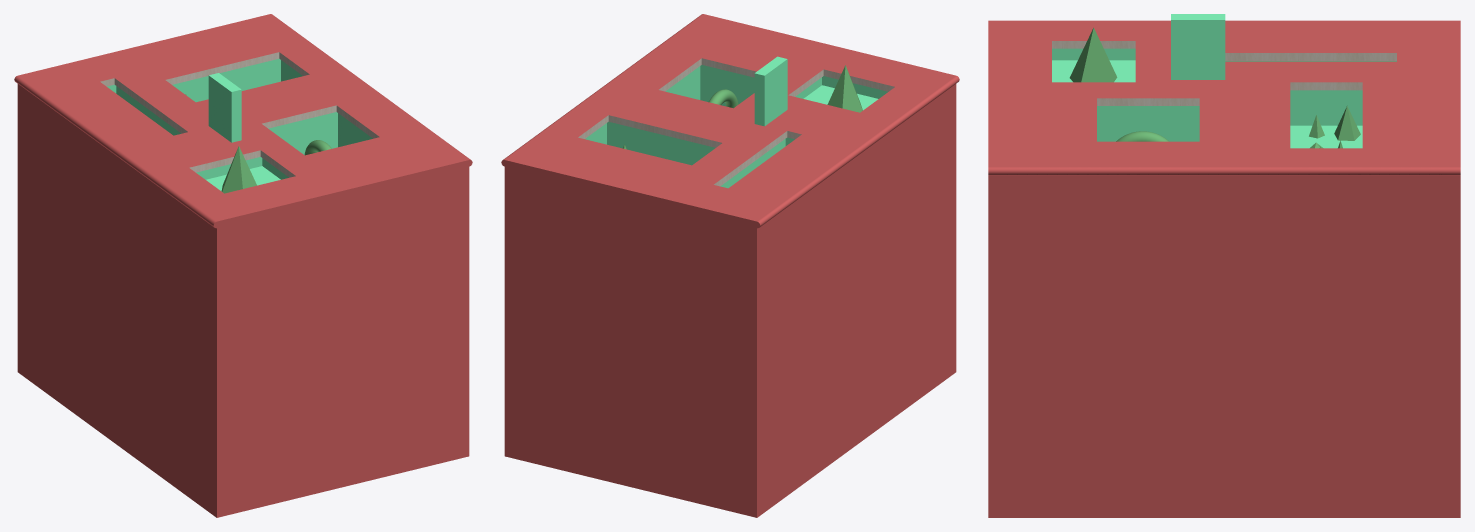
File: temp table.fbx
3 views of the same model, side by side, from view 1: azimuth 30°, elevation 25°; view 2: azimuth 150°, elevation 25°; view 3: azimuth 270°, elevation 25° (orthographic). The views are drawn at different scales.
Visible parts, largest first — view 1: Shroud, Edited Table, Little Compartments, Wood Edges, Little Objects; view 2: Shroud, Edited Table, Little Compartments, Wood Edges, Little Objects; view 3: Shroud, Edited Table, Little Compartments, Wood Edges, Little Objects.
Boxes of the visible parts, x1=… form: Shroud: x1=17, y1=84, x2=469, y2=517; Edited Table: x1=14, y1=14, x2=472, y2=228; Little Compartments: x1=107, y1=58, x2=372, y2=191; Wood Edges: x1=100, y1=52, x2=379, y2=177; Little Objects: x1=185, y1=94, x2=331, y2=193; Shroud: x1=504, y1=84, x2=956, y2=517; Edited Table: x1=501, y1=14, x2=959, y2=228; Little Compartments: x1=585, y1=56, x2=888, y2=188; Wood Edges: x1=578, y1=58, x2=894, y2=186; Little Objects: x1=622, y1=65, x2=862, y2=149; Shroud: x1=988, y1=175, x2=1460, y2=517; Edited Table: x1=988, y1=20, x2=1460, y2=175; Little Compartments: x1=1052, y1=14, x2=1396, y2=148; Wood Edges: x1=1052, y1=41, x2=1396, y2=105; Little Objects: x1=1069, y1=27, x2=1360, y2=148.
Bounding box in the file's own units: 1829 × 2438 × 2343.
Materials: 4 (1 with a texture image).
